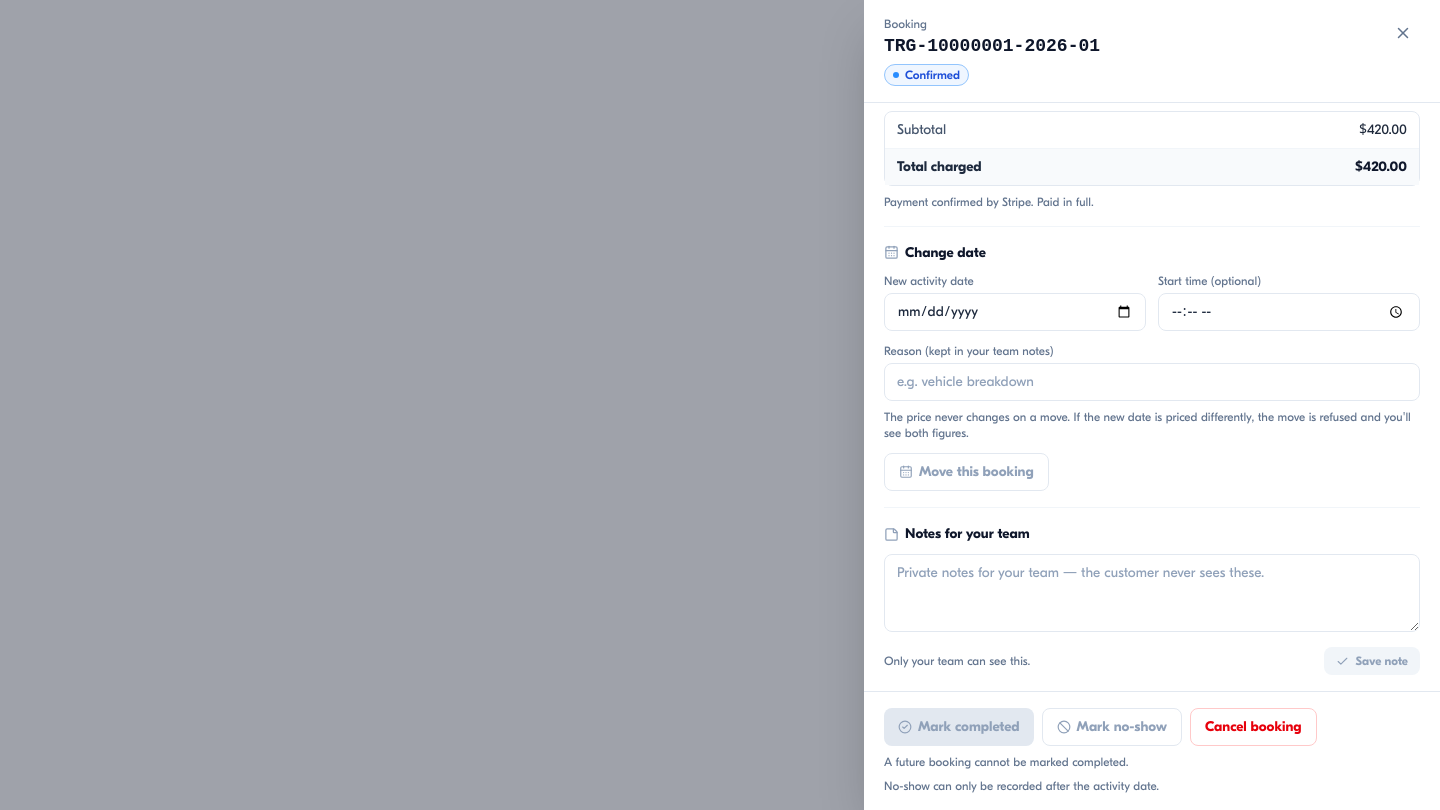
supplier notes › only claims Saved after the server confirms
(page scrolled)
Step 1. Type "Customer arrives at 9am" into the text box named "supplier notes" → (1152, 593), box [884,554,1420,632]
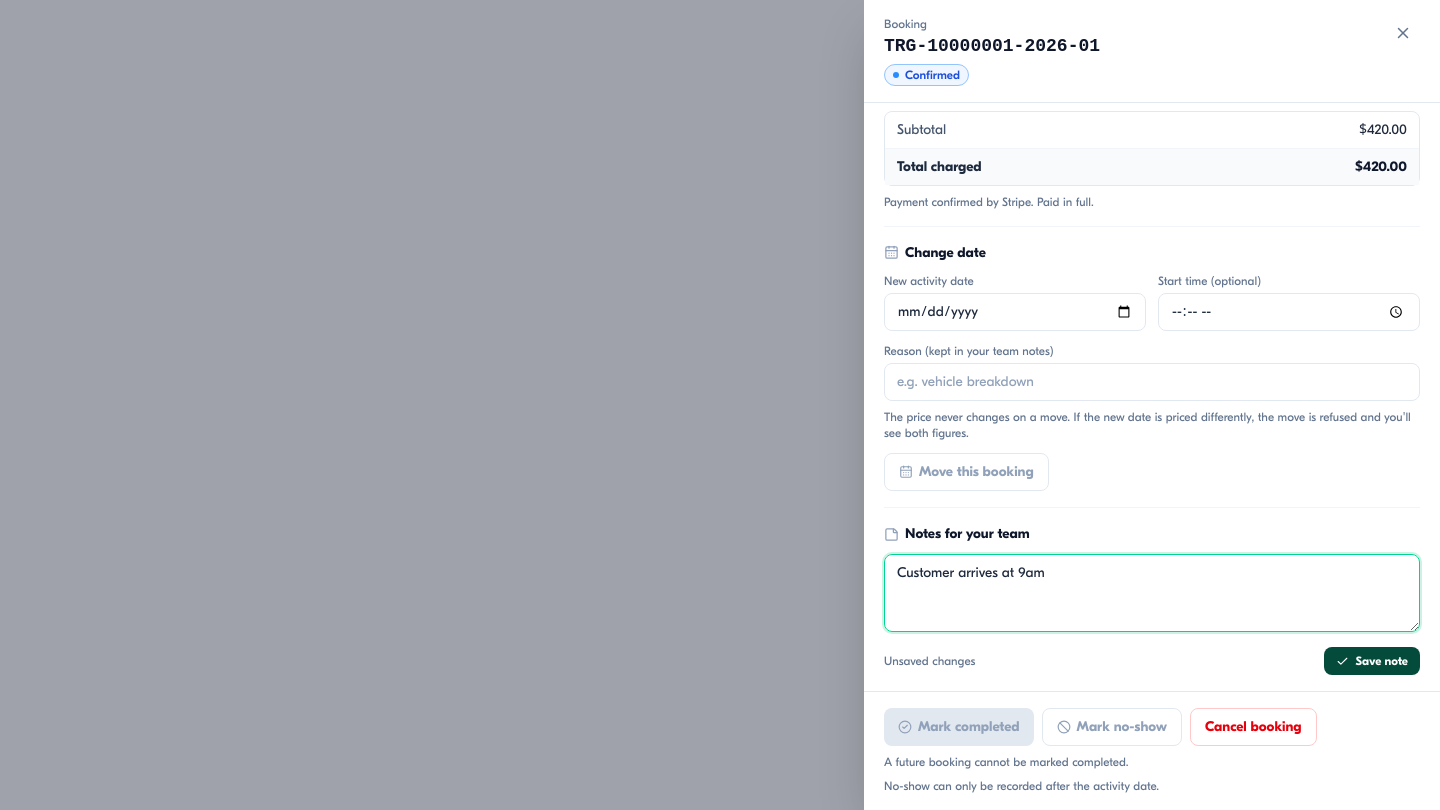
Now the text "Unsaved changes" is shown, box [884,653,976,669]
Step 2. Click the button "Save note" → (1372, 661), box [1324,647,1420,675]
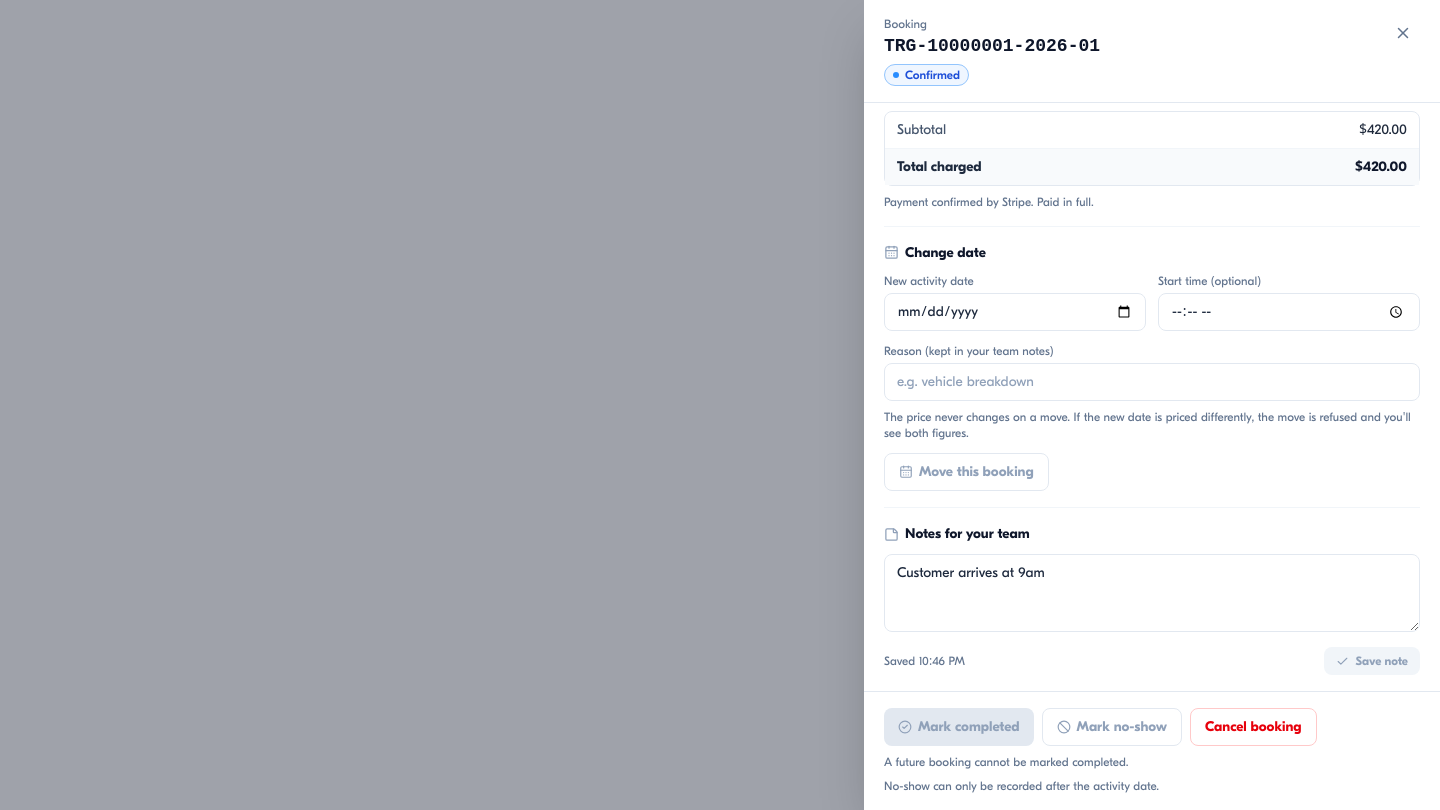
Now the text "Saved 10:46 PM" is shown, box [884,653,965,669]
Now the text "Unsaved changes" is gone
